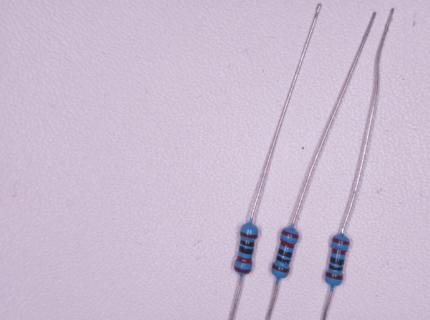Red band: (281, 229, 299, 239), (332, 236, 350, 245), (280, 239, 295, 249), (235, 255, 251, 264), (234, 266, 251, 274), (331, 247, 347, 255)
